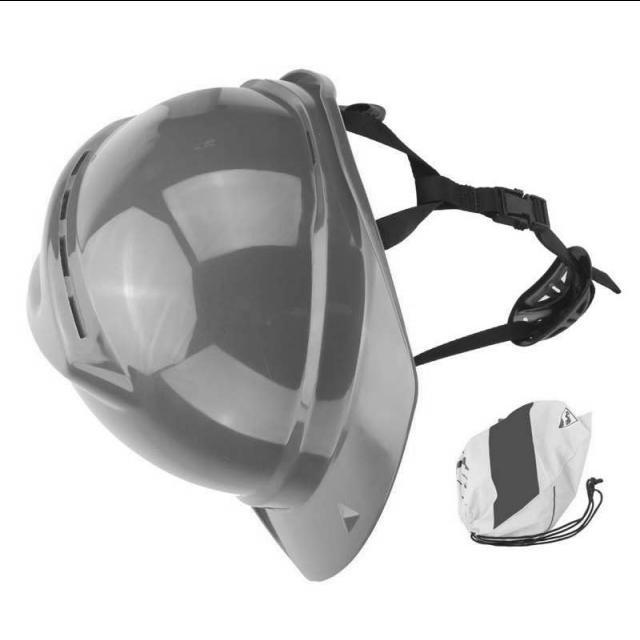safety_helmet: (26, 67, 618, 584)
